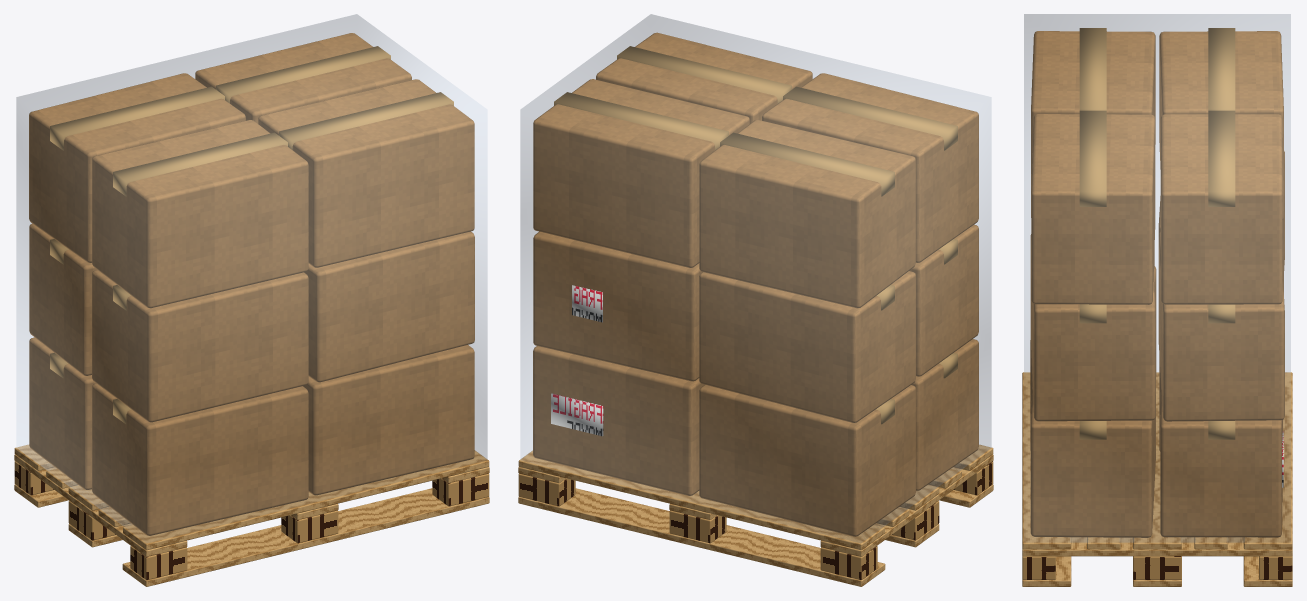
Rendered from p_pallet_load.glb.
3 renders of one model, left to right at view 1: azimuth 30°, elevation 25°; view 2: azimuth 150°, elevation 25°; view 3: azimuth 270°, elevation 25°, orthographic. The views are drawn at different scales.
Parts seen in each view (by area): view 1: pallet_load; view 2: pallet_load; view 3: pallet_load.
Part boxes in pixels (x1,y1,x2,y2): pallet_load: (14,14,489,586); pallet_load: (518,14,993,586); pallet_load: (1022,14,1292,586).
Bounding box in the file's own units: 1.2 × 1.31 × 0.8.
Materials: 7 (4 with a texture image).
